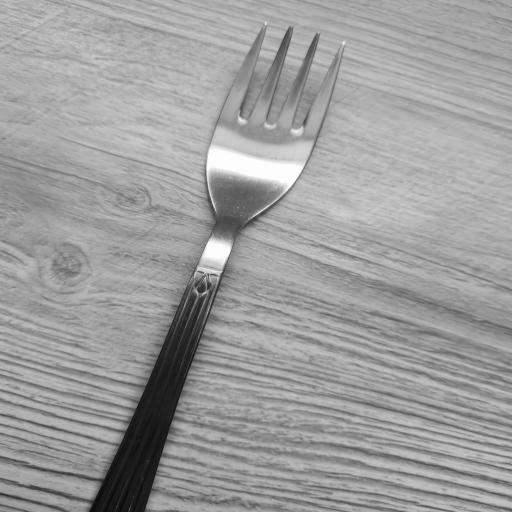fork: (94, 20, 351, 512)
